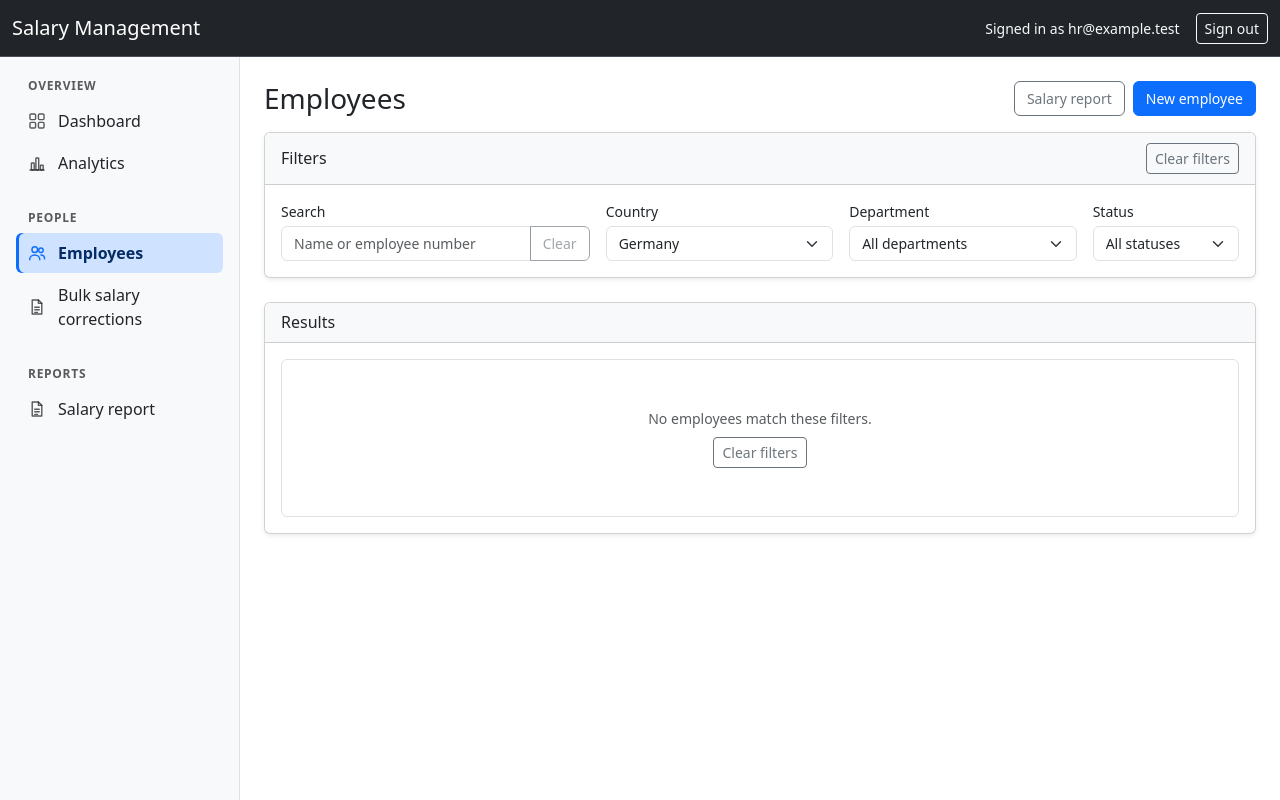
Scenario: EmployeeListPage › offers Clear filters when filters match nothing
This screenshot has width=1280, height=800.
Expected: the heading "Employees" is shown, [264,82,406,115]
Step 1. Type "Nobody" into the search field labelled "Search" → point(406, 244), box [281,226,531,261]
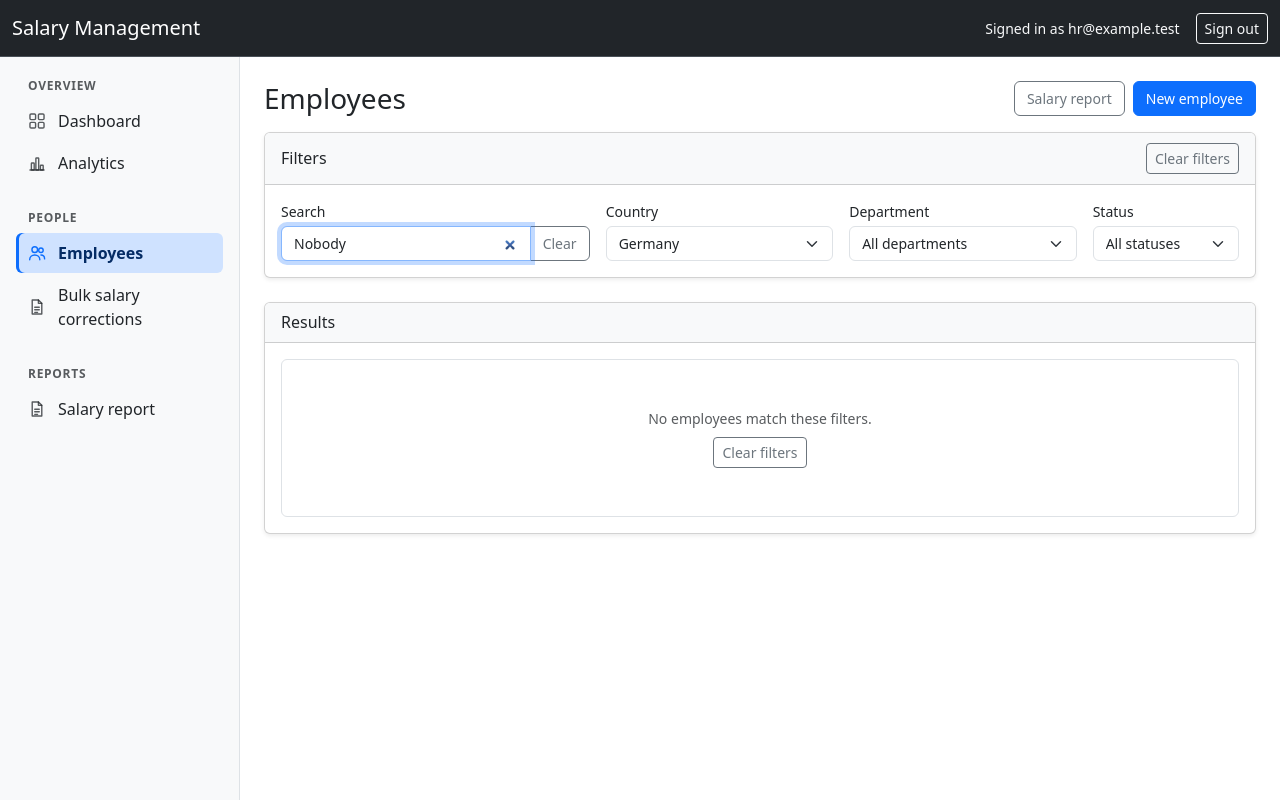
Expected: the text "No employees match these filters." is shown, [648,409,872,428]
Step 2. Click the button "Clear filters" below "No employees match these filters." → point(760, 453), box [713,437,806,468]
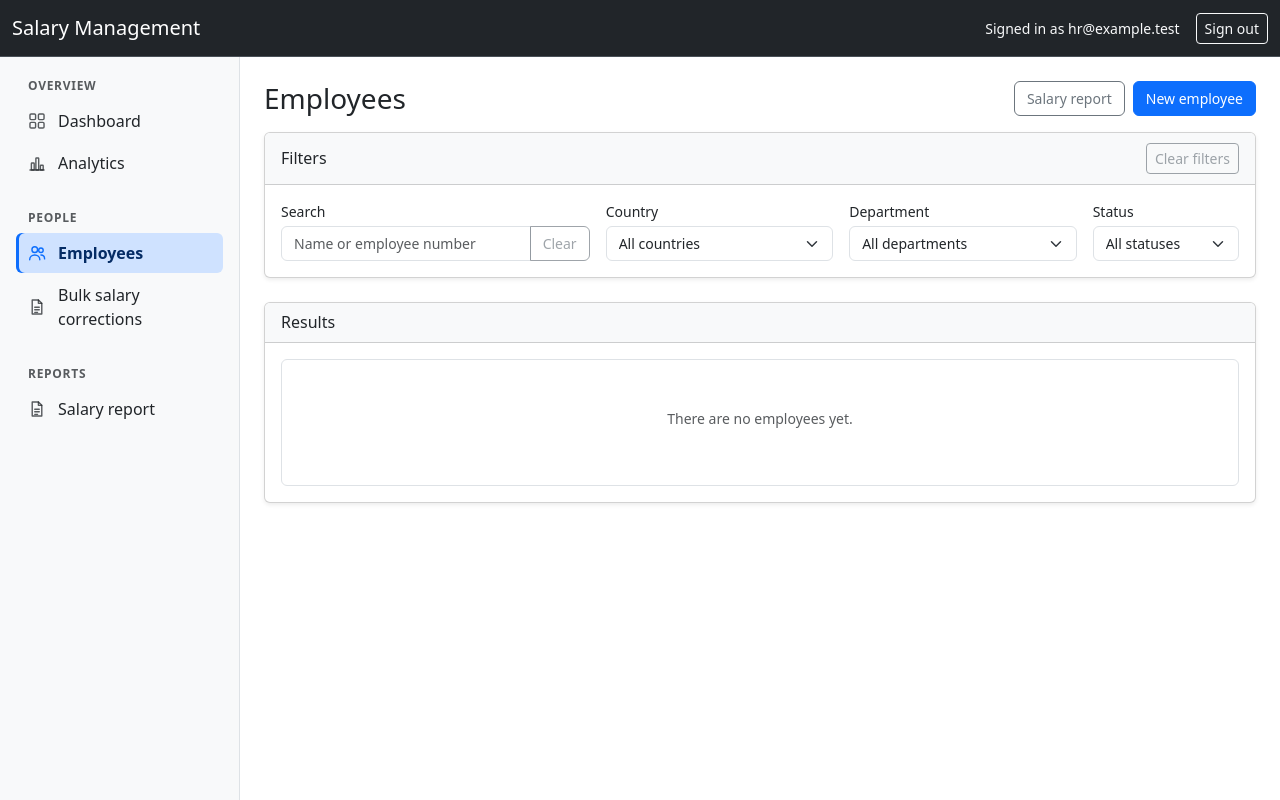
Expected: the search field labelled "Search" is empty, [281,226,531,261]
